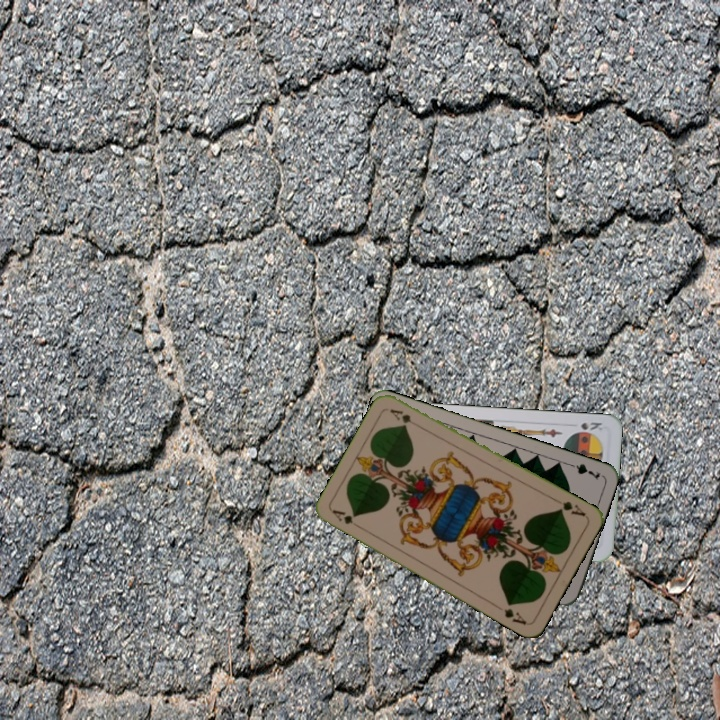G7: (564, 459, 603, 483)
GA: (328, 505, 365, 532), (551, 495, 588, 519)
SK: (577, 418, 605, 433)
